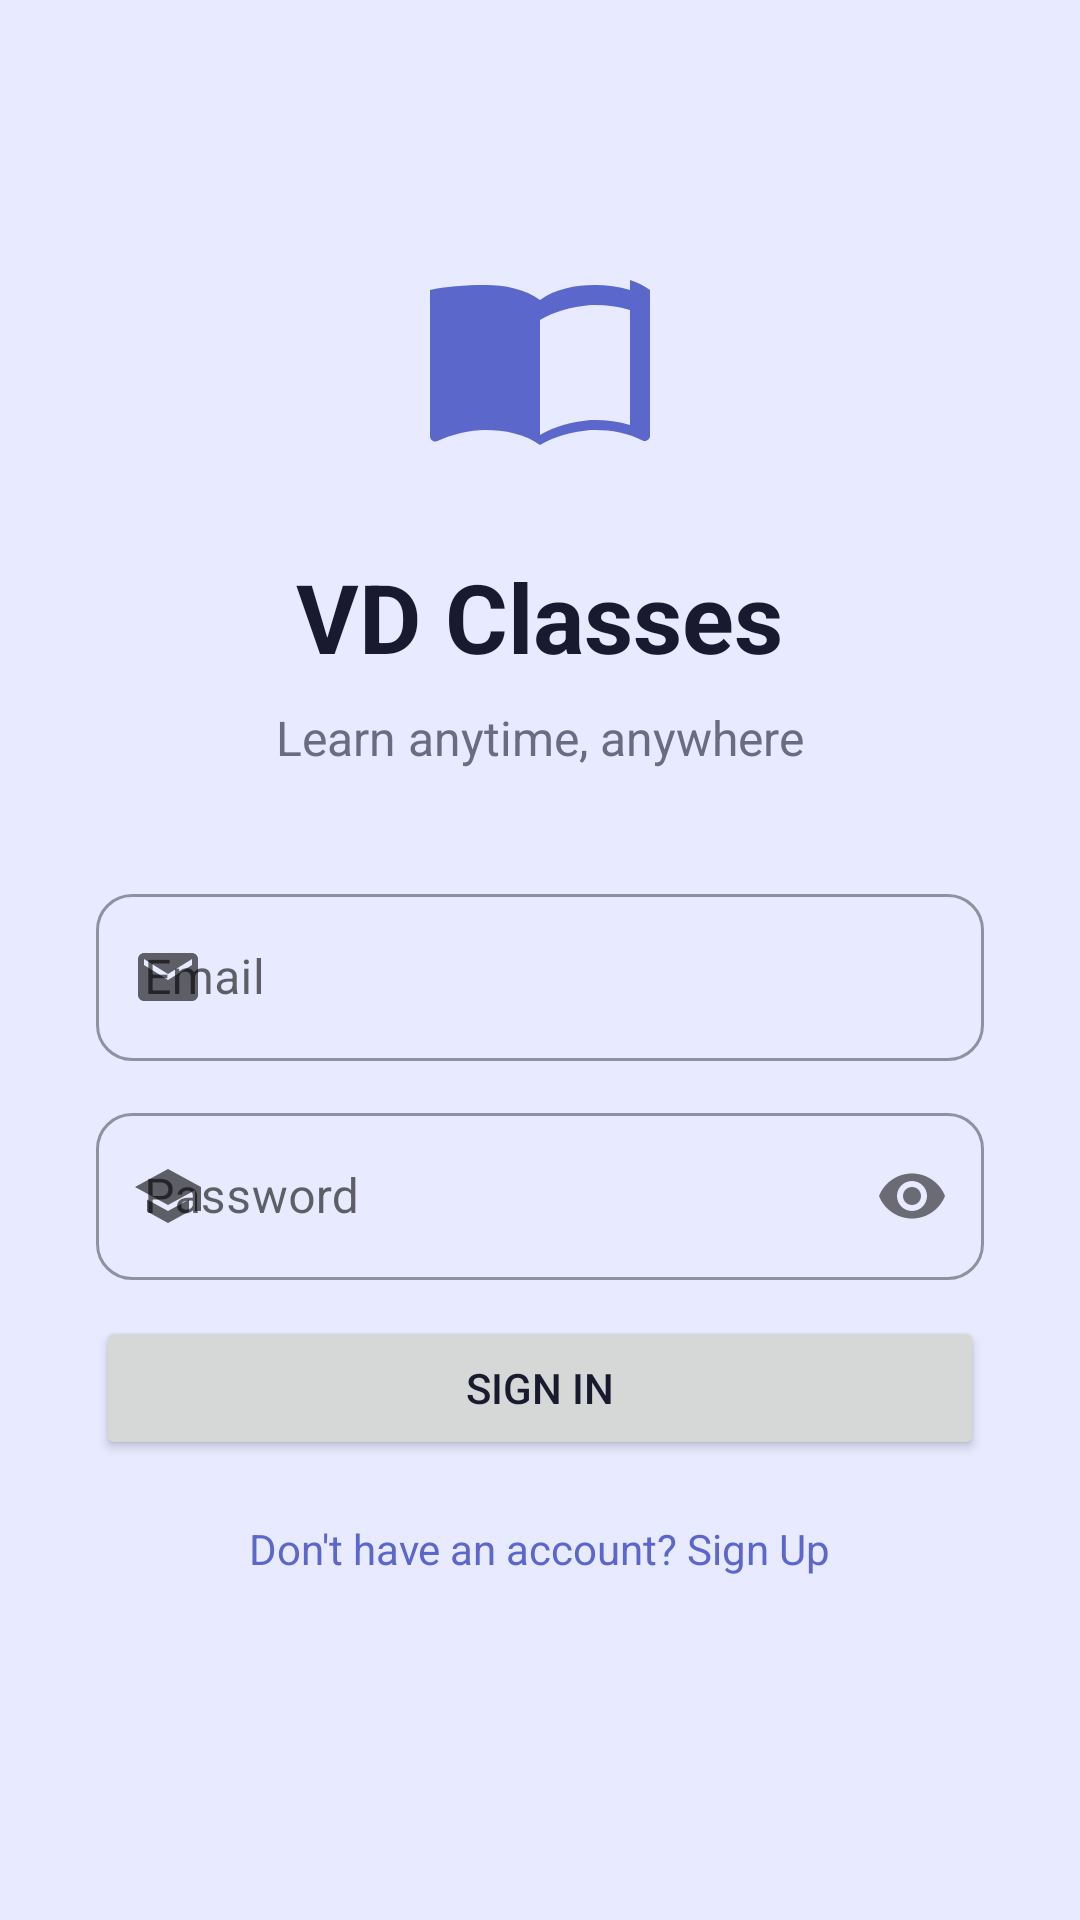

Named icons in this screenshot (1080px×1920px) and their bounding boxes, (x1, y1, x2, y2):
Book icon: (430, 280, 650, 445)
